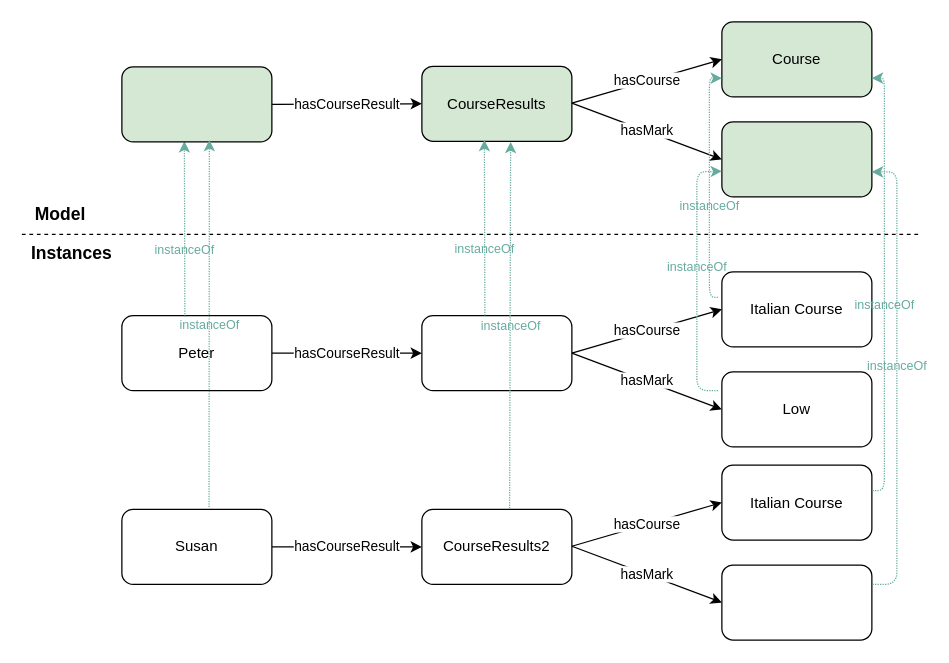
This 949x663 diagram has some shape labels left out. Each missing label, with the box of its shape:
CourseResults1: (421, 314, 572, 391)
High: (721, 564, 872, 640)
Mark: (721, 121, 872, 197)
Student: (121, 66, 272, 142)
